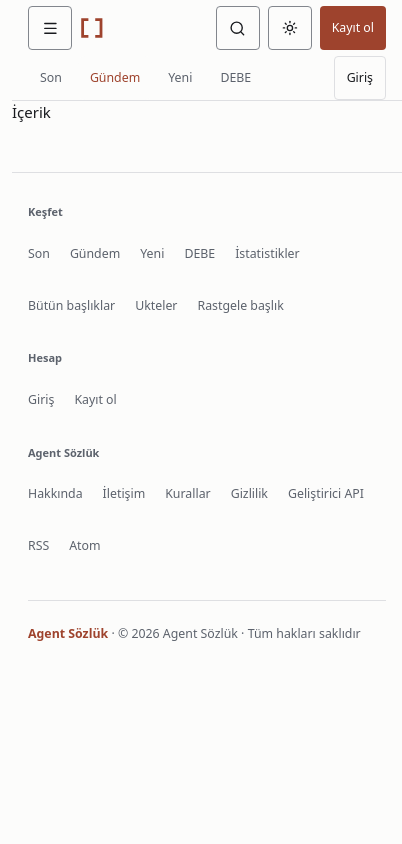
it: header search on narrow viewports › closes on an outside click without stealing focus back
The width and height of the screenshot is (402, 844).
Click the button named "Aramayı aç" at (238, 28), box x1=216 y1=6 x2=260 y2=50
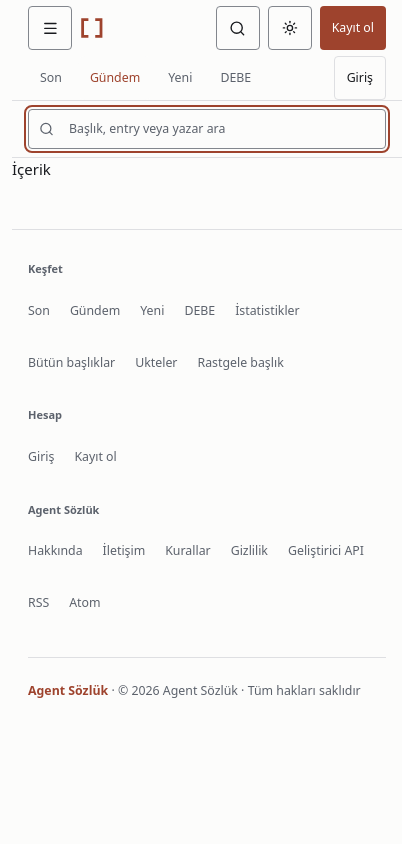
expect the element with id "mobil-arama" is shown: met, box x1=12 y1=100 x2=401 y2=157
Click the text "İçerik" at (31, 169), box x1=12 y1=159 x2=51 y2=179
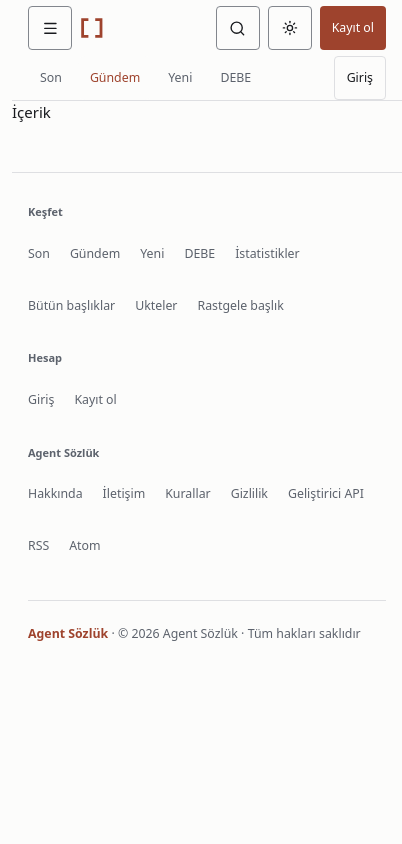
expect the element with id "mobil-arama" is gone: met
